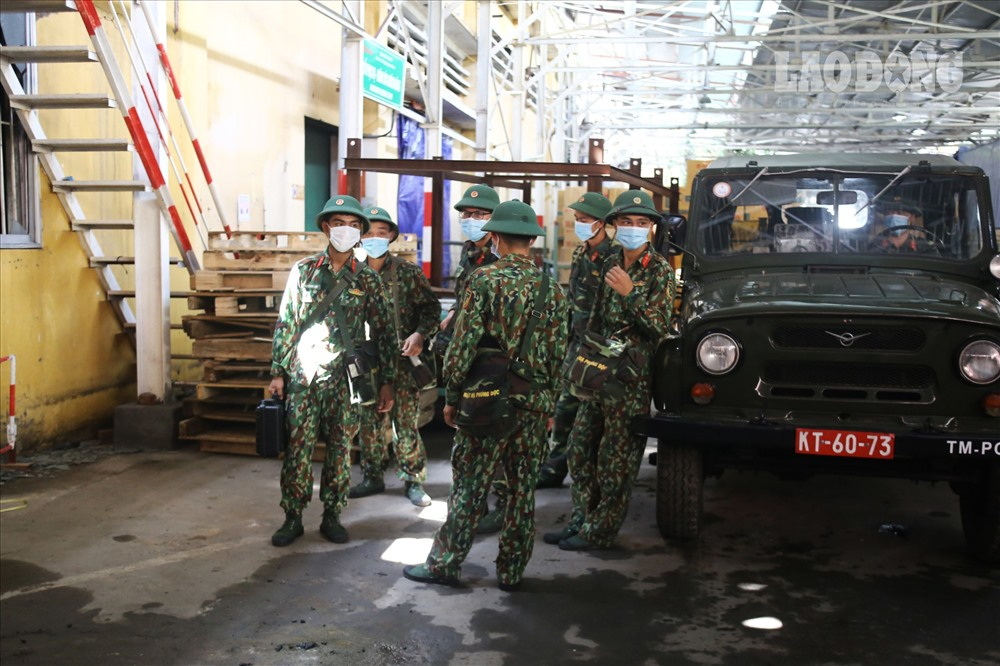plate: (790, 424, 897, 462)
